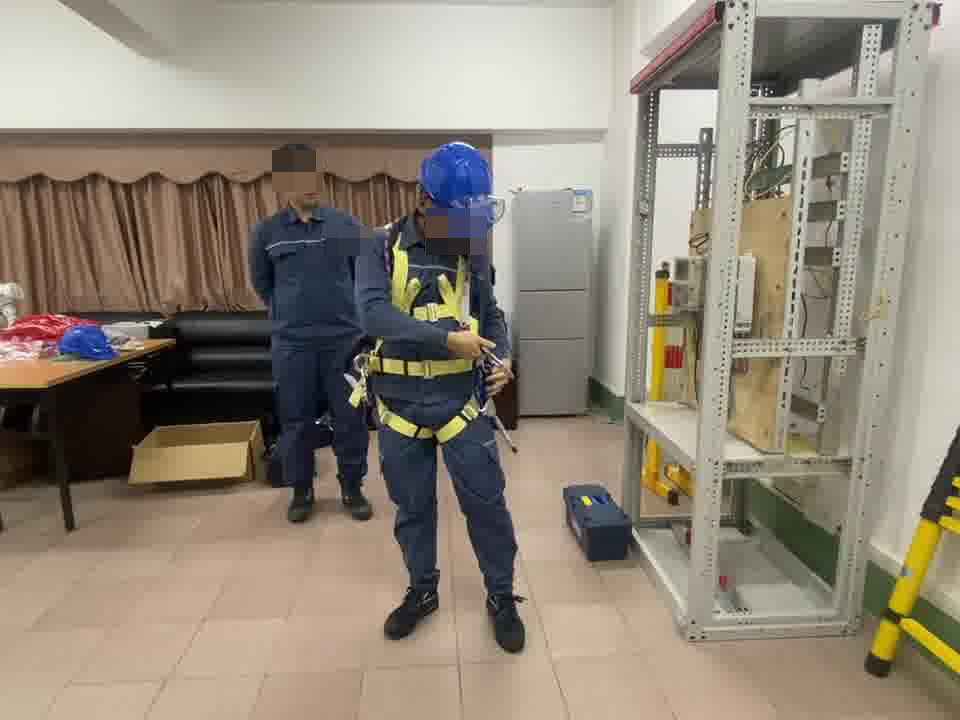downsuit: (372, 388, 520, 588), (272, 353, 367, 480)
halt: (417, 141, 510, 253)
hand: (448, 330, 496, 364), (484, 356, 513, 397)
inear: (418, 188, 441, 230)
person: (344, 139, 533, 657), (247, 140, 372, 522)
safebelt: (347, 226, 491, 445)
unhalt: (270, 144, 328, 213)
upsuit: (354, 212, 508, 383), (246, 207, 366, 351)
